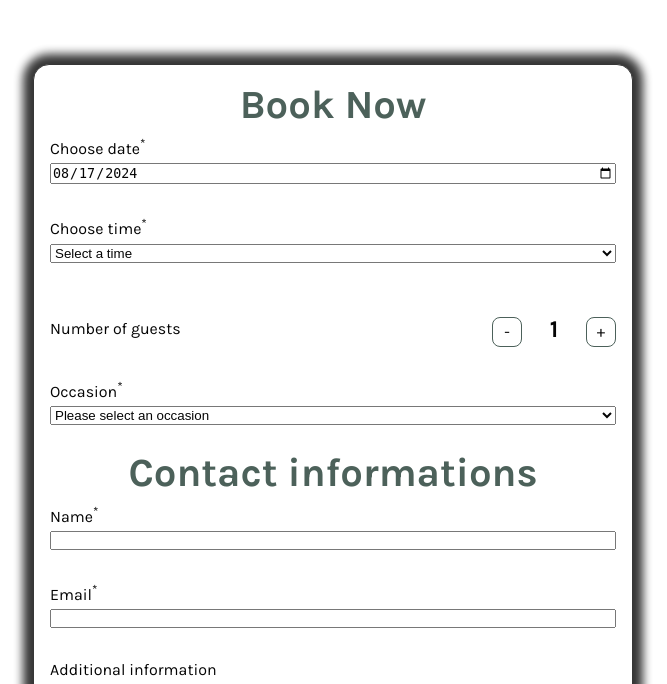
Test: name is valid
The image size is (667, 684).
Type "jon doe" into the field with test id "input-name".
click(333, 540); type("jon doe")  # box [50,531,616,550]
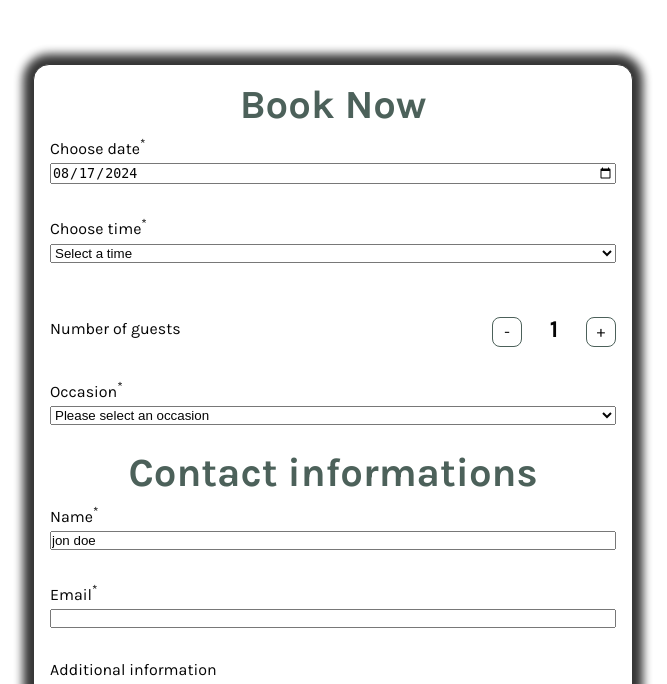
Leave the field with test id "input-name", box [50,531,616,550]
(page scrolled)
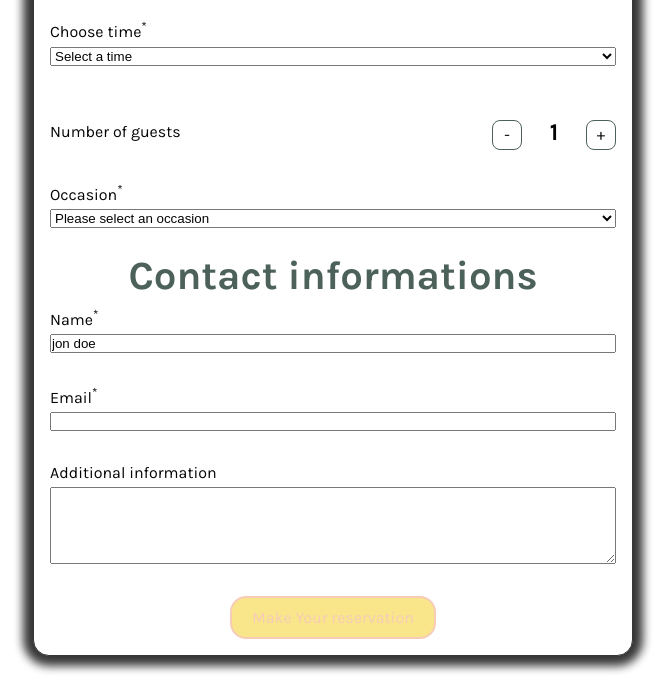
Expected: the button "Make Your reservation" is disabled, [230,596,436,639]
